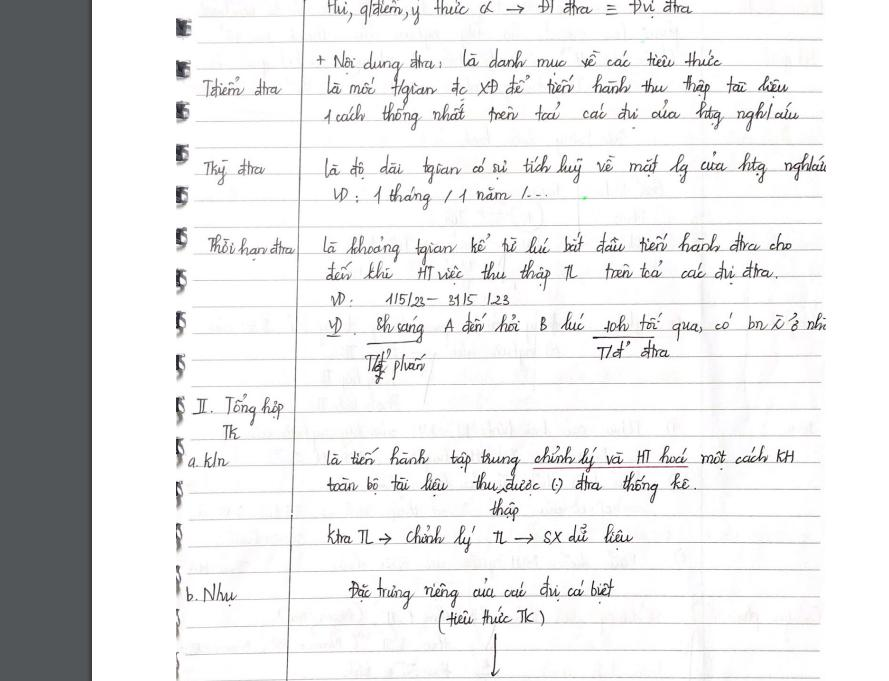text: (321, 149, 828, 187), (319, 229, 795, 267), (326, 310, 830, 344), (323, 71, 793, 107), (323, 443, 798, 478), (322, 257, 781, 293), (322, 99, 801, 133), (312, 44, 726, 82), (323, 469, 700, 504), (324, 521, 636, 555), (345, 573, 617, 612), (323, 0, 693, 27), (329, 181, 552, 212), (327, 290, 512, 311), (190, 392, 287, 427), (434, 607, 545, 637), (206, 232, 297, 263), (360, 347, 428, 384), (201, 74, 283, 98), (200, 158, 267, 187), (595, 337, 671, 362), (183, 580, 241, 609), (185, 450, 233, 470), (486, 497, 522, 522), (219, 423, 242, 442)
